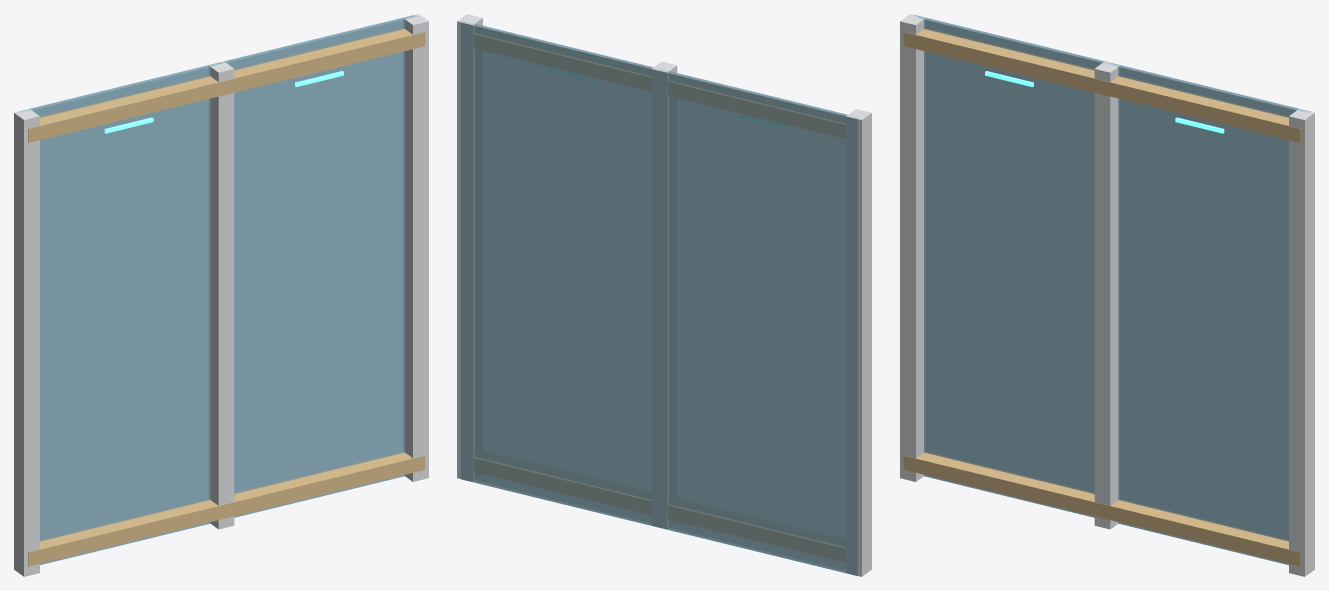
The model's file is observation_glazing_5m.glb.
3 views of the same model, side by side, from view 1: azimuth 30°, elevation 25°; view 2: azimuth 150°, elevation 25°; view 3: azimuth 330°, elevation 25° (orthographic).
Visible parts, largest first — view 1: observation_glazing_5m_000, observation_glazing_5m_001, observation_glazing_5m_003, observation_glazing_5m_002, observation_glazing_5m_004, observation_glazing_5m_005; view 2: observation_glazing_5m_000, observation_glazing_5m_001, observation_glazing_5m_003, observation_glazing_5m_002, observation_glazing_5m_004, observation_glazing_5m_005; view 3: observation_glazing_5m_000, observation_glazing_5m_003, observation_glazing_5m_001, observation_glazing_5m_002, observation_glazing_5m_004, observation_glazing_5m_005.
Boxes of the visible parts, x1=… form: observation_glazing_5m_000: x1=18, y1=15, x2=416, y2=565; observation_glazing_5m_001: x1=14, y1=109, x2=39, y2=576; observation_glazing_5m_003: x1=403, y1=14, x2=428, y2=481; observation_glazing_5m_002: x1=209, y1=61, x2=234, y2=529; observation_glazing_5m_004: x1=28, y1=452, x2=425, y2=566; observation_glazing_5m_005: x1=28, y1=28, x2=425, y2=142; observation_glazing_5m_000: x1=460, y1=21, x2=859, y2=575; observation_glazing_5m_001: x1=846, y1=109, x2=871, y2=576; observation_glazing_5m_003: x1=457, y1=14, x2=482, y2=481; observation_glazing_5m_002: x1=652, y1=61, x2=677, y2=528; observation_glazing_5m_004: x1=474, y1=457, x2=845, y2=562; observation_glazing_5m_005: x1=474, y1=33, x2=845, y2=138; observation_glazing_5m_000: x1=913, y1=15, x2=1310, y2=565; observation_glazing_5m_003: x1=1289, y1=109, x2=1314, y2=576; observation_glazing_5m_001: x1=900, y1=14, x2=925, y2=481; observation_glazing_5m_002: x1=1094, y1=61, x2=1119, y2=529; observation_glazing_5m_004: x1=903, y1=452, x2=1300, y2=566; observation_glazing_5m_005: x1=903, y1=28, x2=1300, y2=142.
Bounding box in the file's own units: 5.1 × 5.5 × 0.23.
